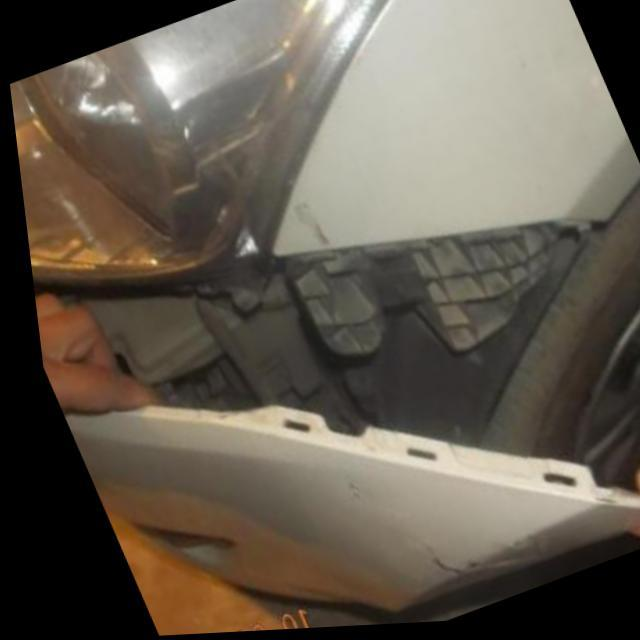dislocated part: (77, 226, 640, 509)
